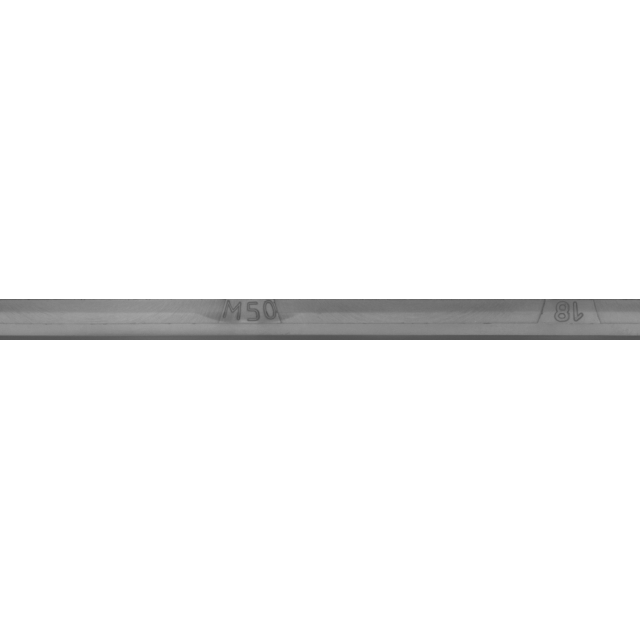mohao: (146, 270, 346, 370)
xuehao: (477, 270, 640, 370)
